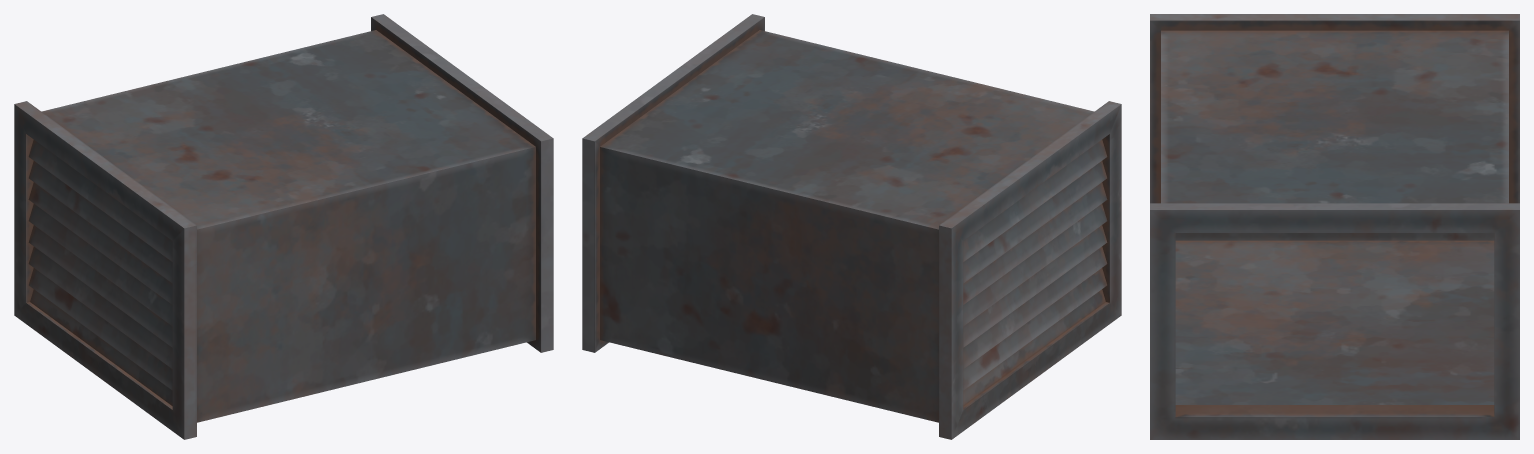
File: Vent_Edge_B.fbx
3 views of the same model, side by side, from view 1: azimuth 30°, elevation 25°; view 2: azimuth 150°, elevation 25°; view 3: azimuth 270°, elevation 25° (orthographic). The views are drawn at different scales.
Parts seen in each view (by area): view 1: Cube.002; view 2: Cube.002; view 3: Cube.002.
Part boxes in pixels (bbox=[...]): Cube.002: bbox=[14, 14, 553, 439]; Cube.002: bbox=[582, 14, 1121, 439]; Cube.002: bbox=[1150, 14, 1519, 439].
Size of the model in its own units: 200 by 109 by 159.
